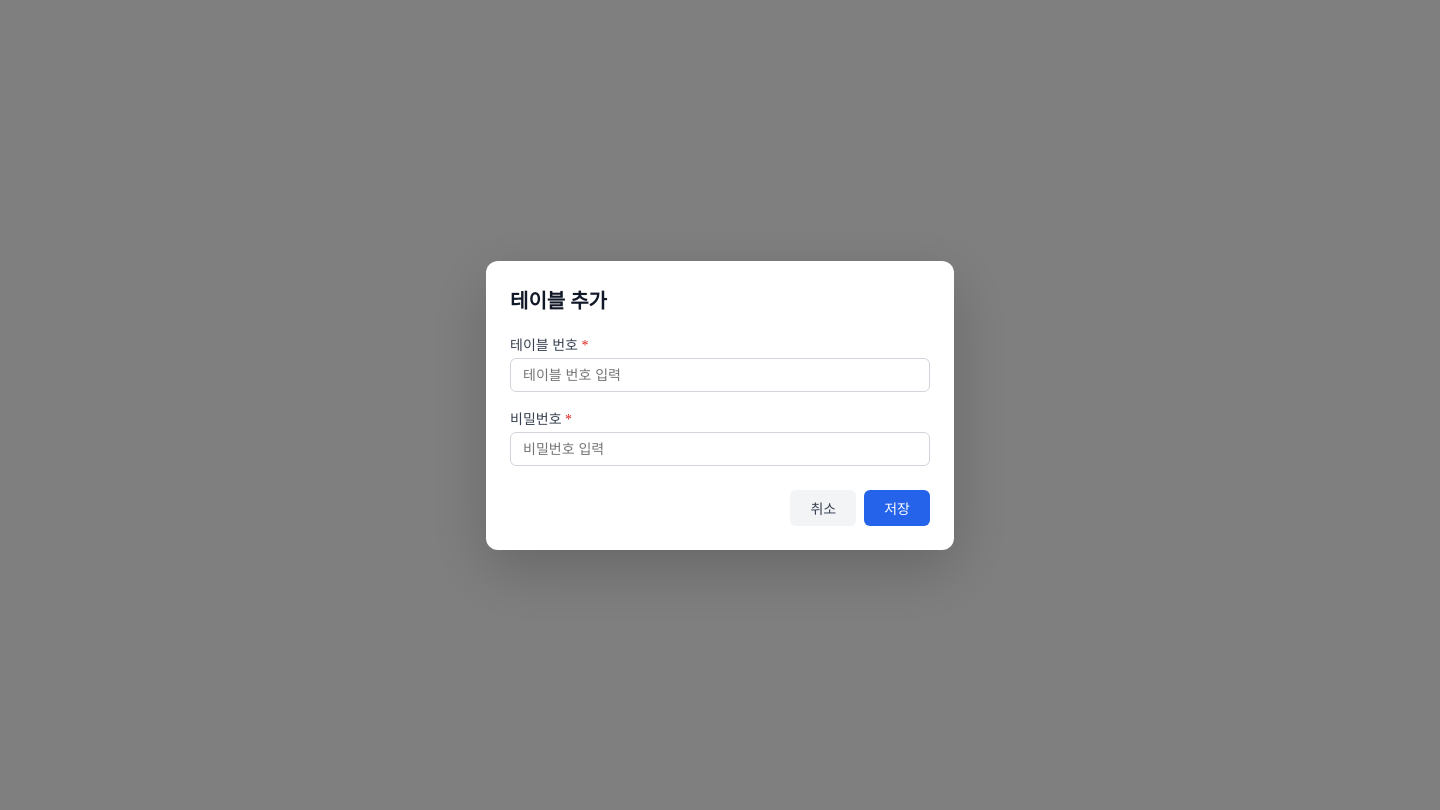
Test: TableForm — 등록 모드 (table=null) › 테이블 번호 없이 제출 시 유효성 에러를 표시한다
This screenshot has width=1440, height=810.
In the password field with test id "table-password-input": (720, 448) left=510, top=432, right=930, bottom=466, type "1234"
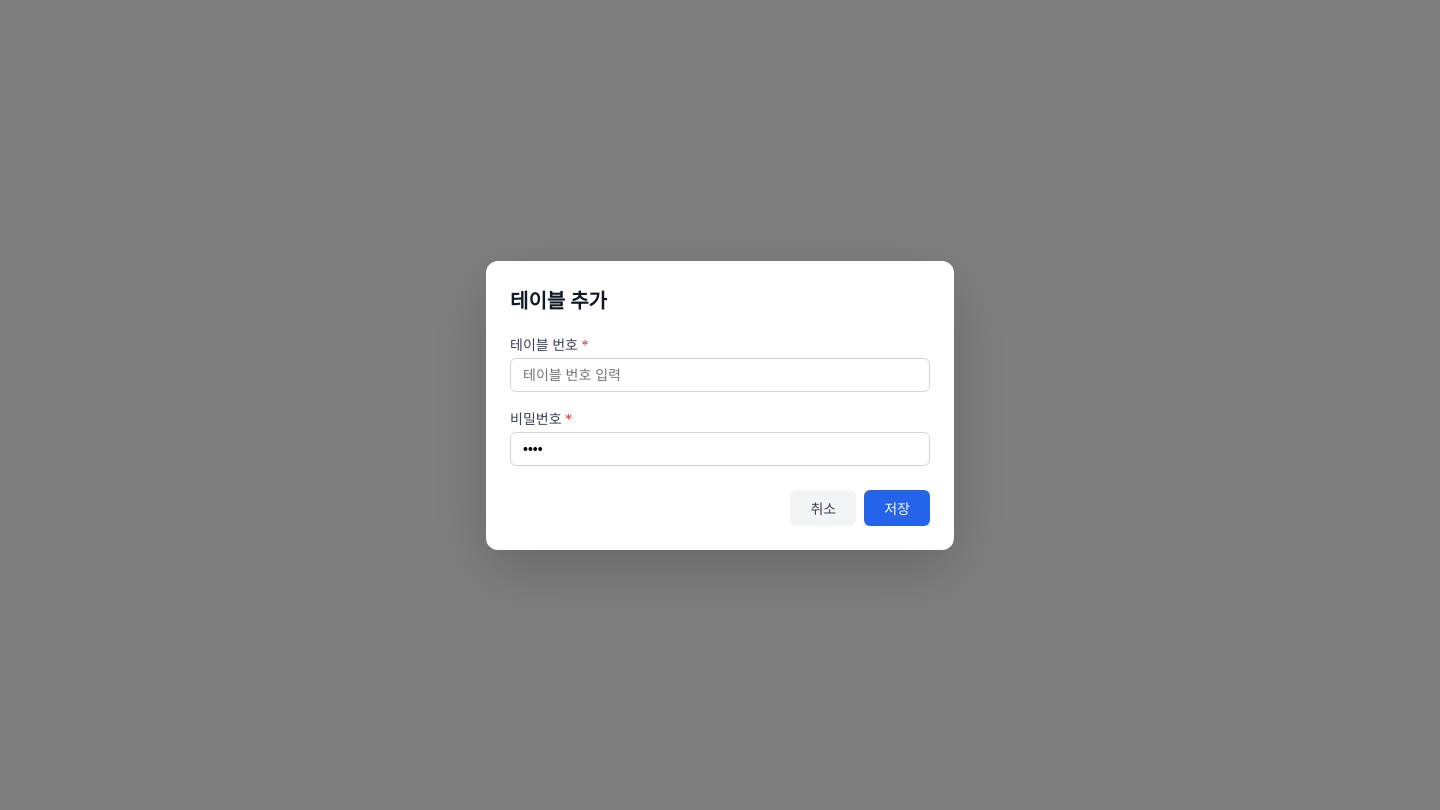
Click the button with test id "table-form-submit-button": (897, 508) left=864, top=490, right=930, bottom=526
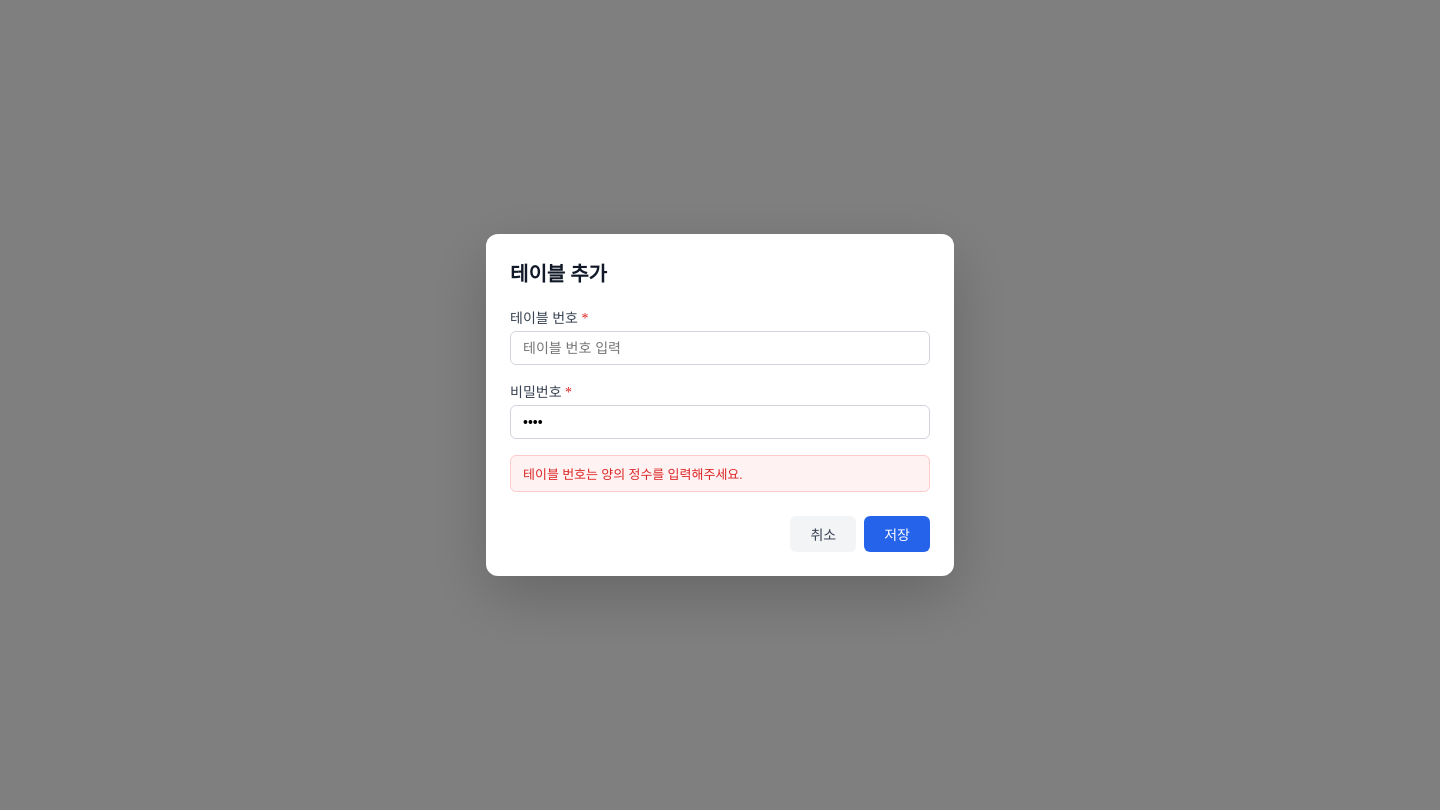
Check: the text with test id "table-form-error" shows "테이블 번호는 양의 정수를 입력해주세요", box left=523, top=467, right=743, bottom=482
